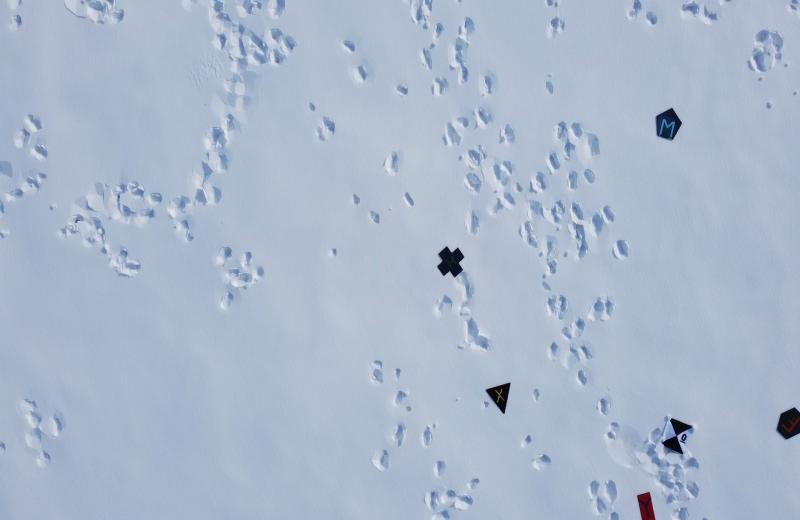Cross: (435, 245, 464, 278)
Hexagon: (775, 408, 800, 442)
Pentagon: (654, 105, 682, 141)
Rectangle: (636, 489, 656, 520)
Triangle: (485, 381, 516, 416)
